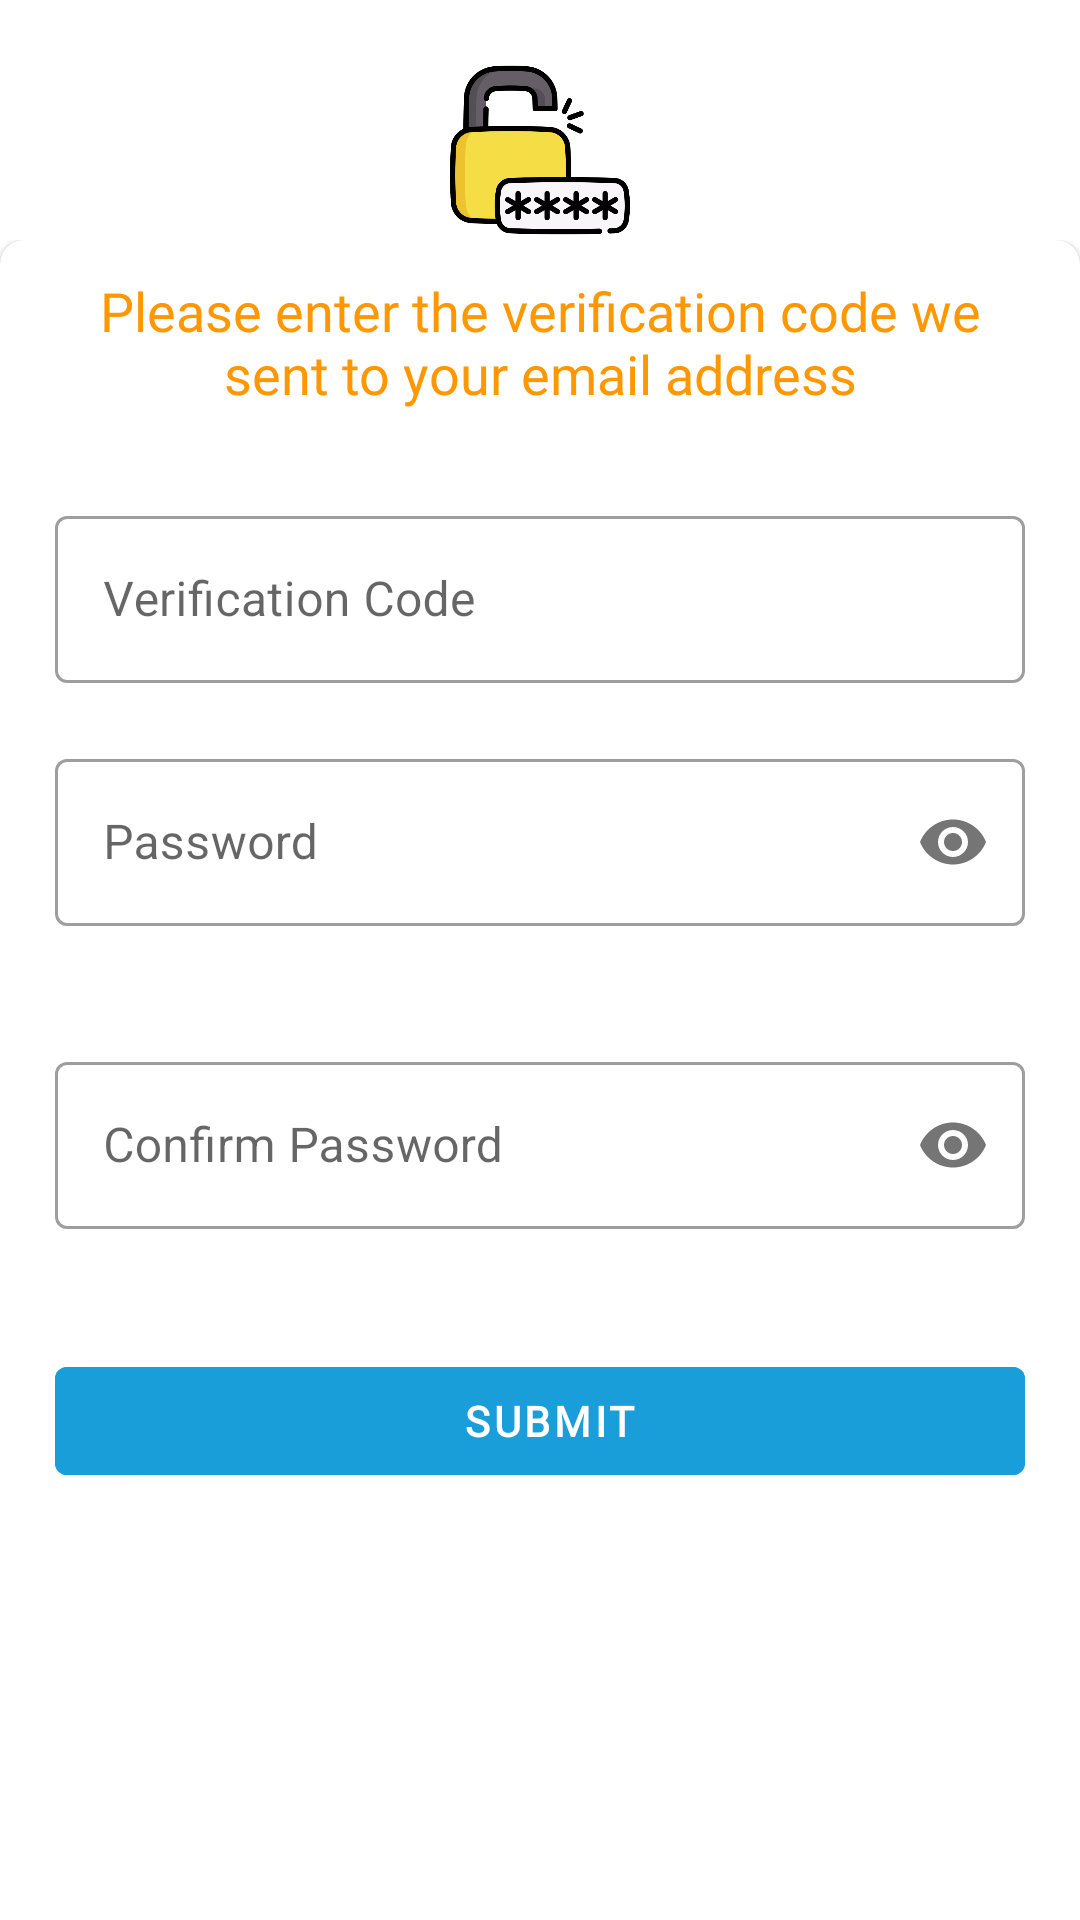

Where to tap for icons on this 1080*1920 app screen, as (x=x, y=y):
Forgot Password: (x=540, y=150)
